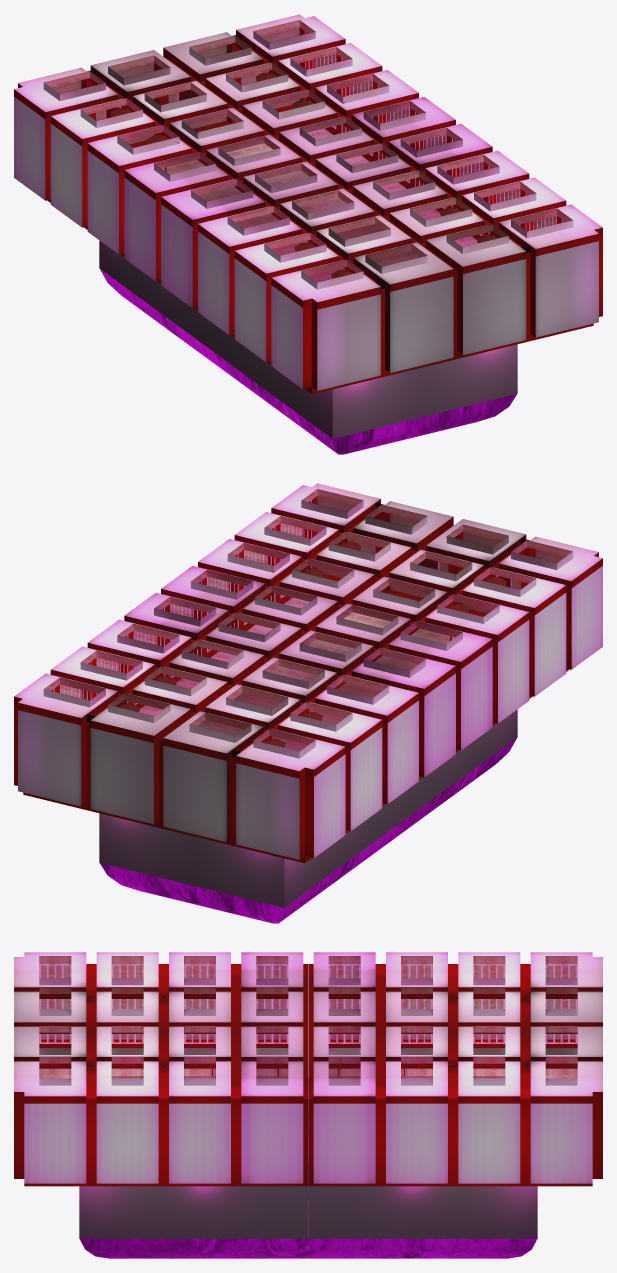
The picture shows the model from 3 angles, top to bottom: view 1: azimuth 30°, elevation 25°; view 2: azimuth 150°, elevation 25°; view 3: azimuth 270°, elevation 25°; orthographic projection.
Visible parts, largest first — view 1: Material2 (×4); view 2: Material2 (×4); view 3: Material2 (×2).
Part boxes in pixels (x1,y1,x2,y2): Material2 (×4): (14,14,602,454); Material2 (×4): (14,483,602,923); Material2 (×2): (14,952,602,1258).
Bounding box in the file's own units: 394 × 272 × 681.
9 materials, 6 textured.
